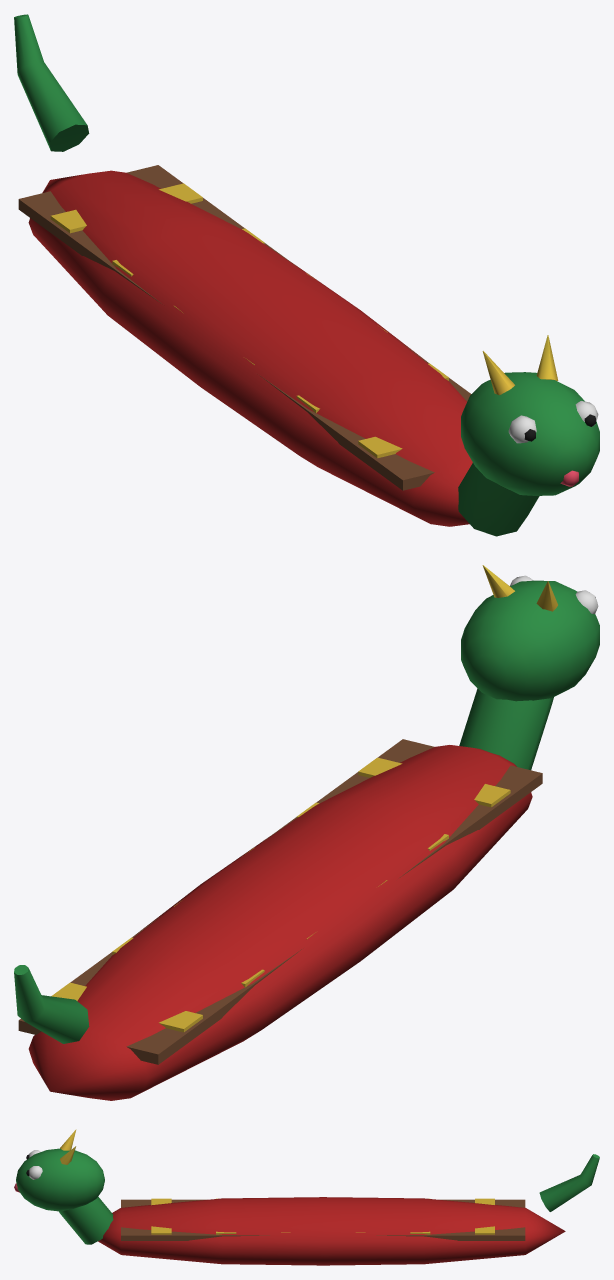
Rendered from fe-dragonboat.glb.
3 renders of one model, top to bottom at view 1: azimuth 30°, elevation 25°; view 2: azimuth 150°, elevation 25°; view 3: azimuth 270°, elevation 25°, orthographic. The views are drawn at different scales.
Visible parts, largest first — view 1: fe-dragonboat; view 2: fe-dragonboat; view 3: fe-dragonboat.
Part boxes in pixels (x1=…): fe-dragonboat: x1=14, y1=14, x2=599, y2=536; fe-dragonboat: x1=14, y1=565, x2=599, y2=1100; fe-dragonboat: x1=14, y1=1129, x2=599, y2=1265.
Size of the model in its own units: 0.52 by 0.6538 by 2.9.
